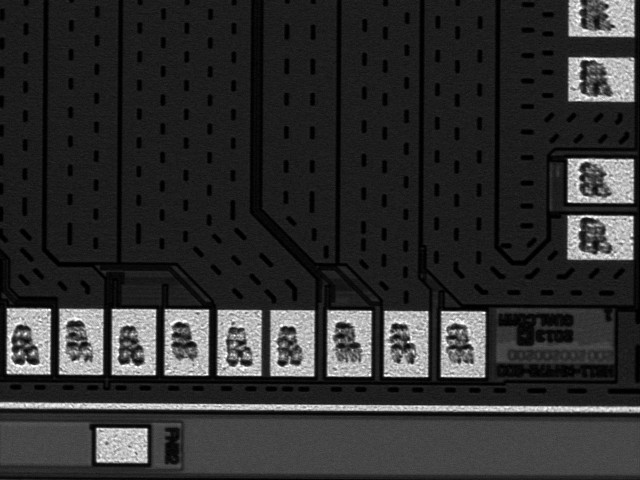over: (265, 302, 321, 390), (434, 303, 492, 386), (321, 302, 377, 386), (378, 302, 433, 387), (212, 302, 265, 388), (160, 302, 212, 386), (107, 302, 160, 384), (2, 302, 55, 381), (55, 302, 107, 382), (564, 153, 638, 208), (562, 211, 640, 262), (563, 52, 640, 103), (563, 1, 638, 39)
